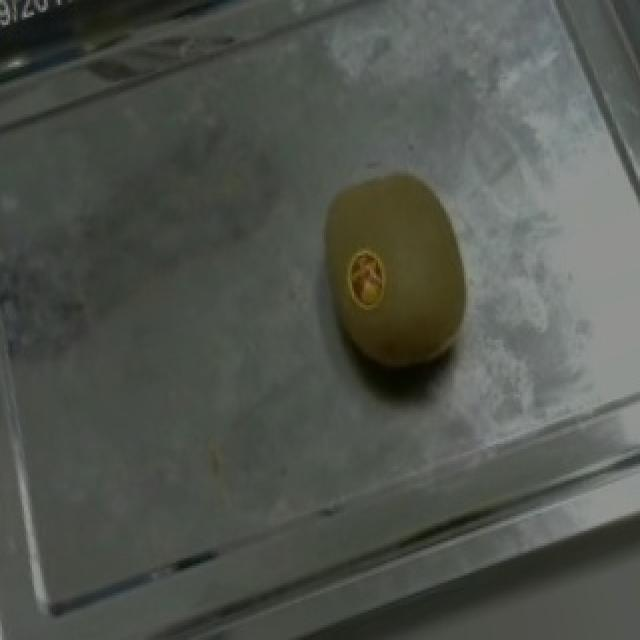Fruit: (280, 142, 504, 414)
